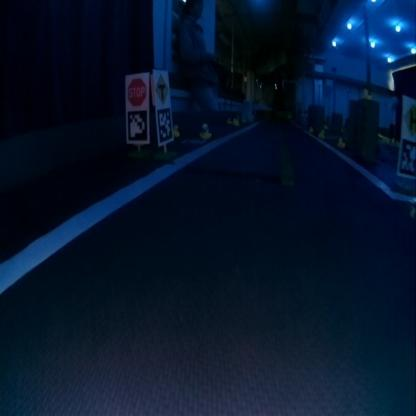Duckie: (198, 122, 212, 139), (336, 137, 345, 148)
Intersection sign: (155, 74, 168, 100)
QR code: (126, 110, 147, 140), (398, 140, 414, 175), (157, 108, 172, 142)
Stop sign: (127, 78, 146, 105)
